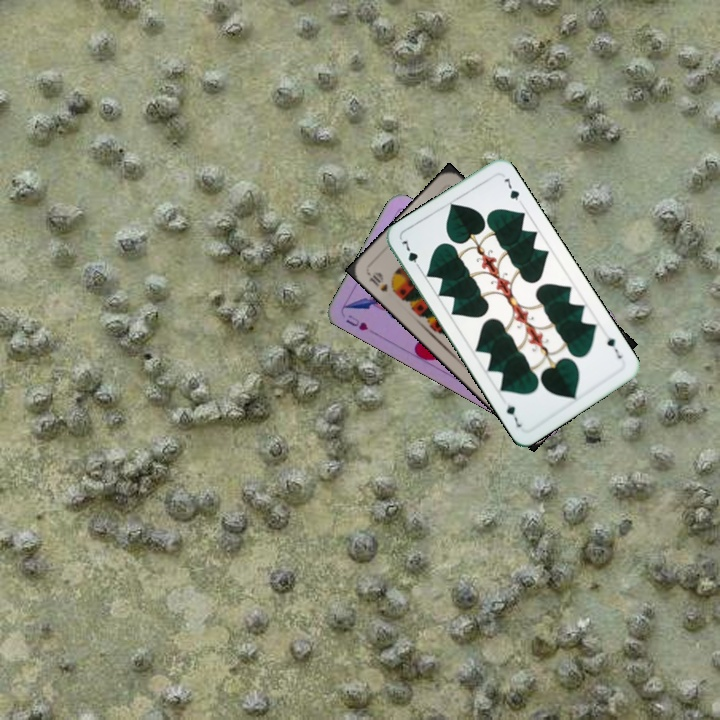G7: (397, 235, 424, 273), (603, 333, 625, 361)
HU: (342, 311, 371, 333)
S10: (365, 268, 390, 294)
